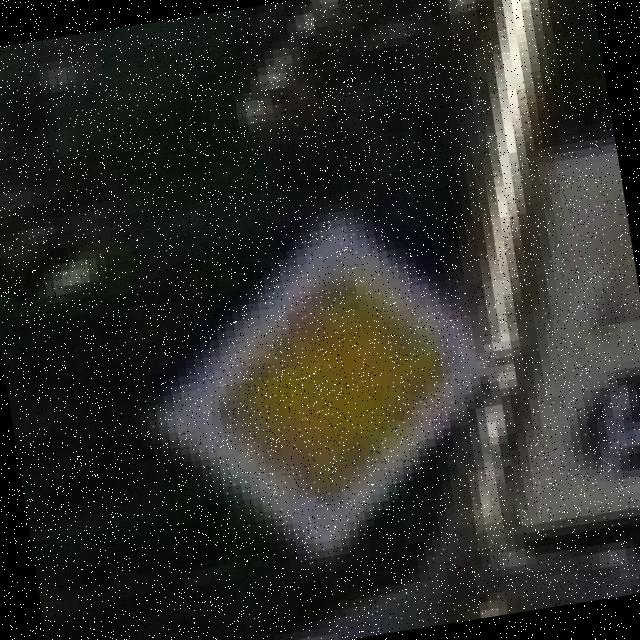Droga z pierwszenstwem: (122, 191, 522, 589)
